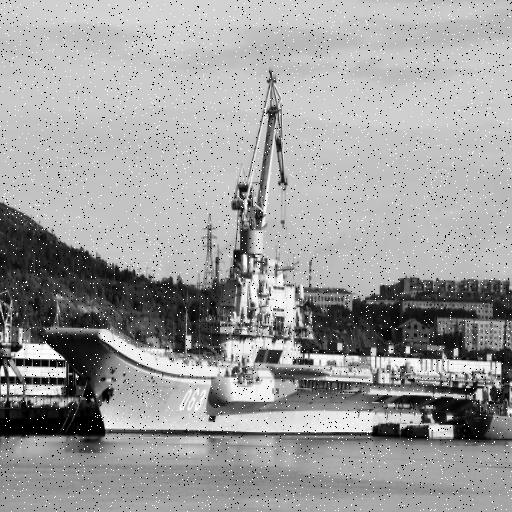Portanaves: (39, 223, 506, 440)
